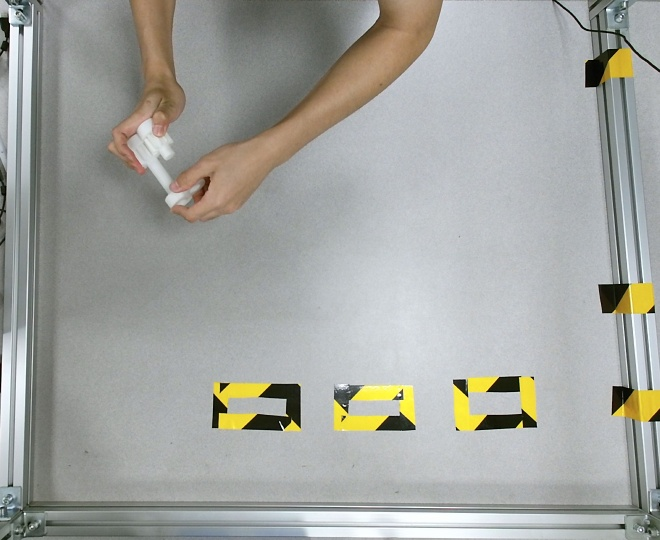stage_3: (127, 116, 206, 210)
